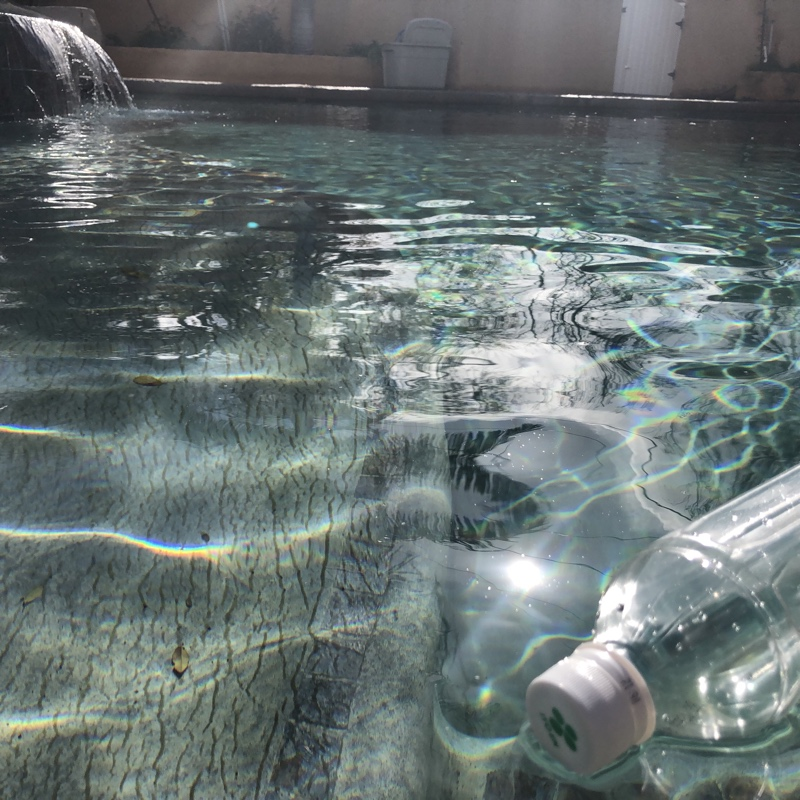Plastic Bottle: (496, 424, 800, 781)
